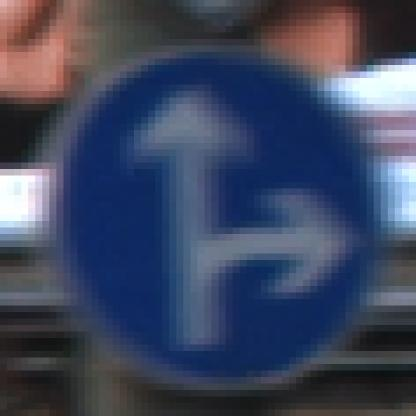Straight or Right: (43, 40, 382, 384)
